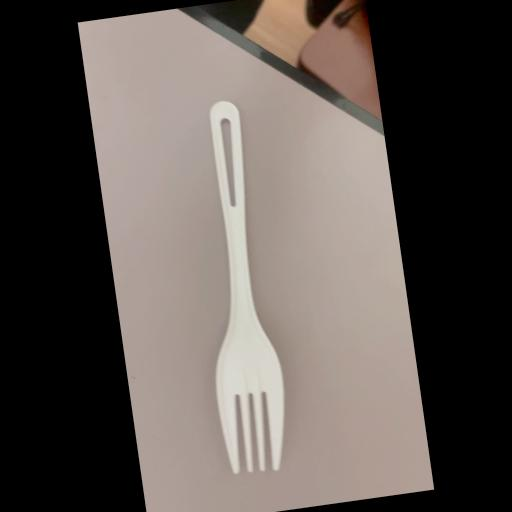utensil: (172, 90, 300, 482)
